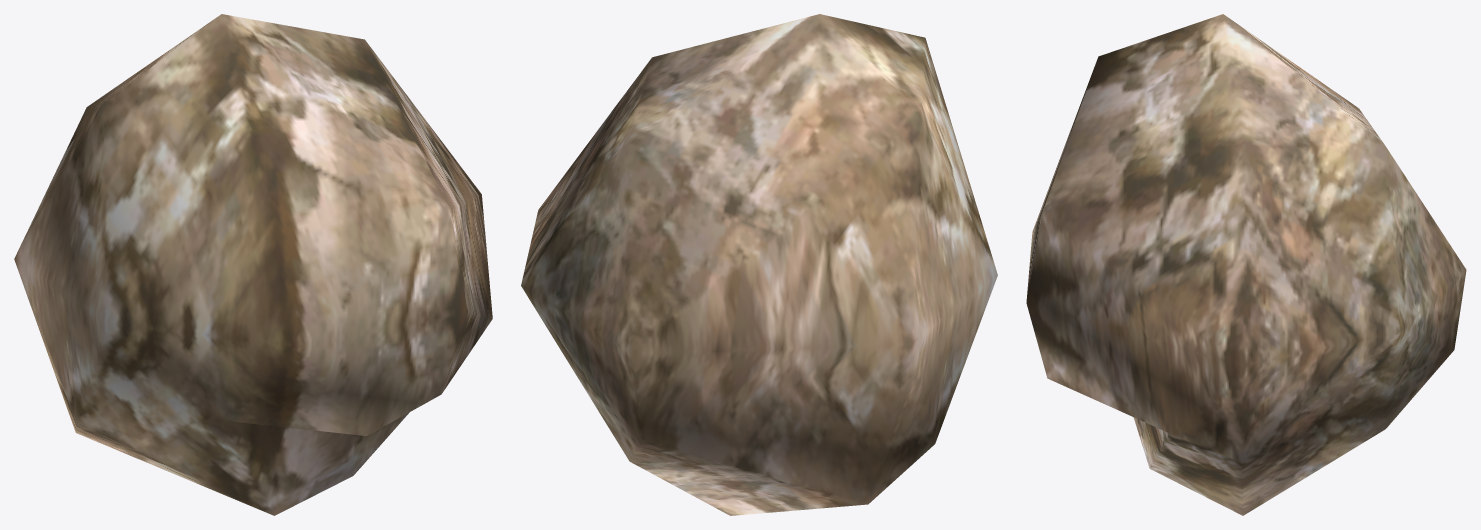
File: thm_tato_cave_rock_med_l2.fbx
The picture shows the model from 3 angles, left to right: view 1: azimuth 30°, elevation 25°; view 2: azimuth 150°, elevation 25°; view 3: azimuth 270°, elevation 25°; orthographic projection. The views are drawn at different scales.
Visible parts, largest first — view 1: mesh_node; view 2: mesh_node; view 3: mesh_node.
Boxes of the visible parts, x1,y1,x2,y2 form: mesh_node: (14,14,492,515); mesh_node: (521,14,997,515); mesh_node: (1026,14,1466,515).
Size of the model in its own units: 0.9928 by 1.16 by 0.9889.
Materials: 1 (1 with a texture image).
